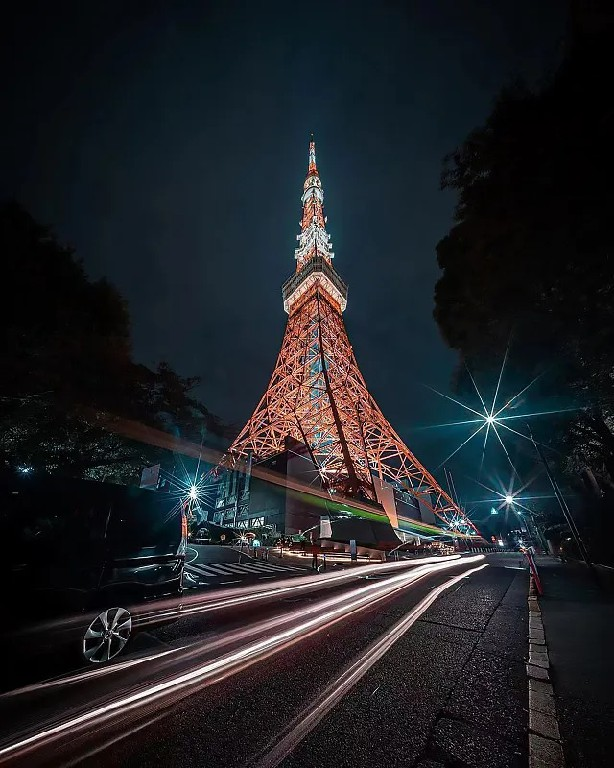Tokyo: (224, 128, 486, 543)
